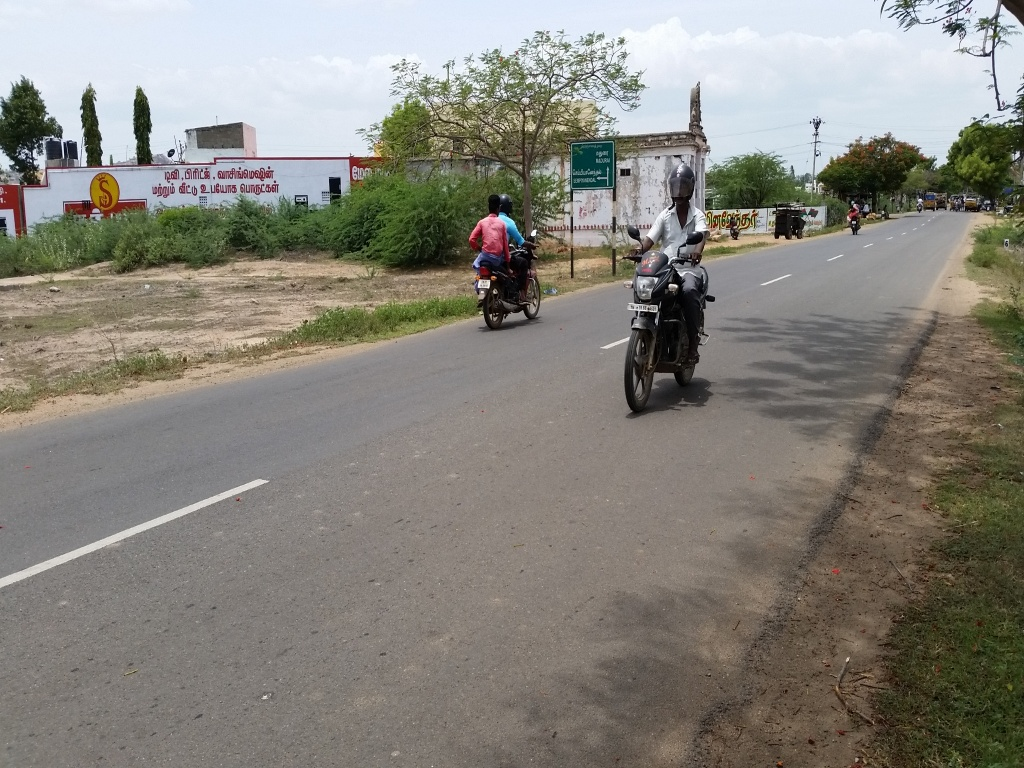biker: (602, 143, 740, 425), (460, 171, 557, 338)
helmet: (662, 156, 702, 227), (498, 186, 516, 220)
nohelmet: (483, 187, 501, 225)
